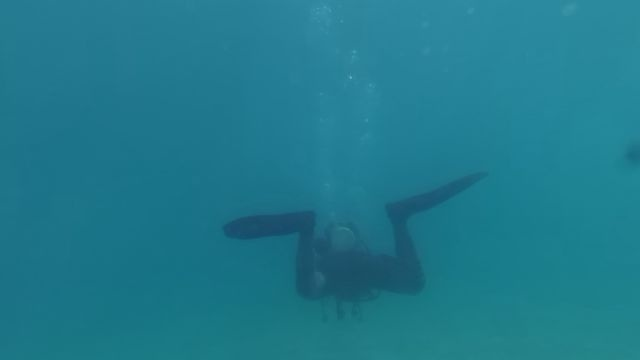Diver: (217, 165, 493, 325)
